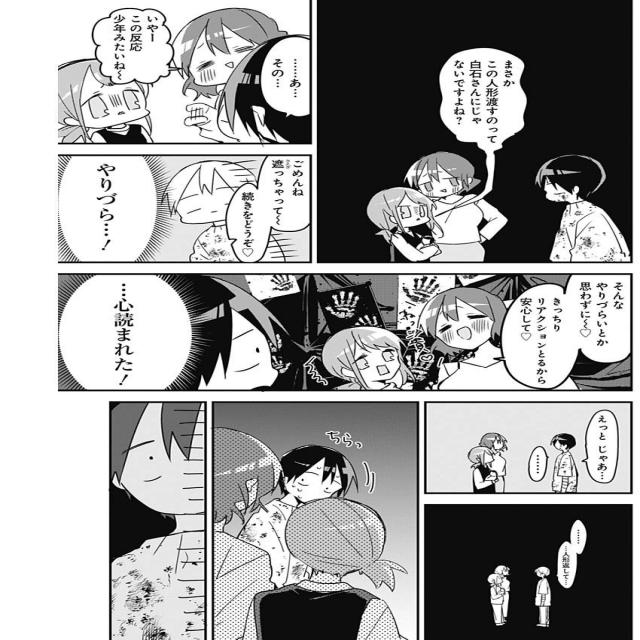Bubble: (56, 273, 205, 390), (56, 153, 172, 263), (440, 48, 527, 152), (499, 283, 581, 389), (92, 8, 175, 85), (564, 273, 633, 363), (258, 153, 312, 232), (262, 36, 312, 118), (226, 182, 270, 262), (585, 409, 620, 483), (556, 540, 578, 590), (570, 517, 589, 553)
